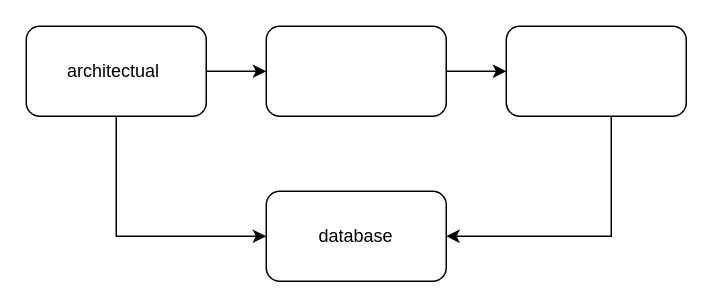
Some shapes in this 713 by 308 pixel diagram are drawn without their labels. The box of each missing label's shape, as (x1, y1, x2, y2) in pixels:
component: (505, 25, 686, 116)
interface: (265, 25, 446, 116)
